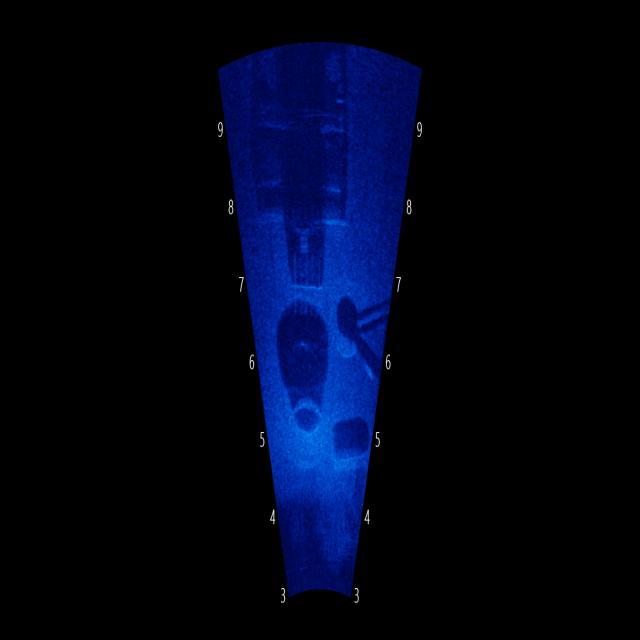circle: (269, 340, 326, 490)
square: (246, 58, 361, 241), (330, 403, 370, 468)
